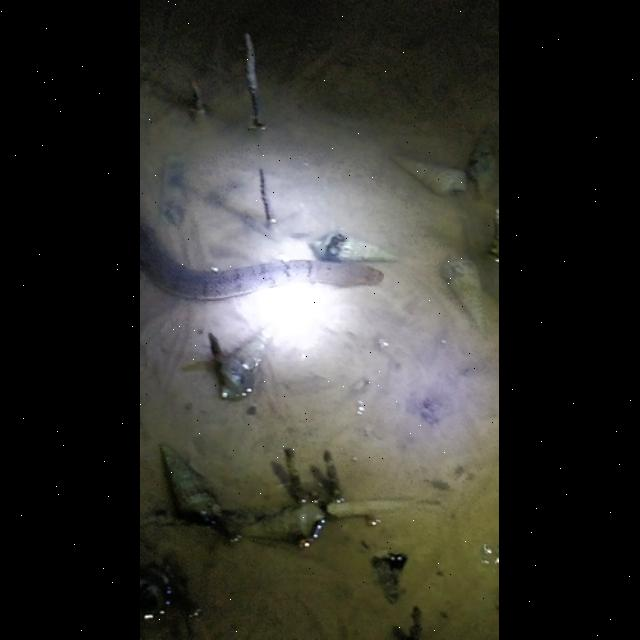snake: (140, 207, 400, 303)
